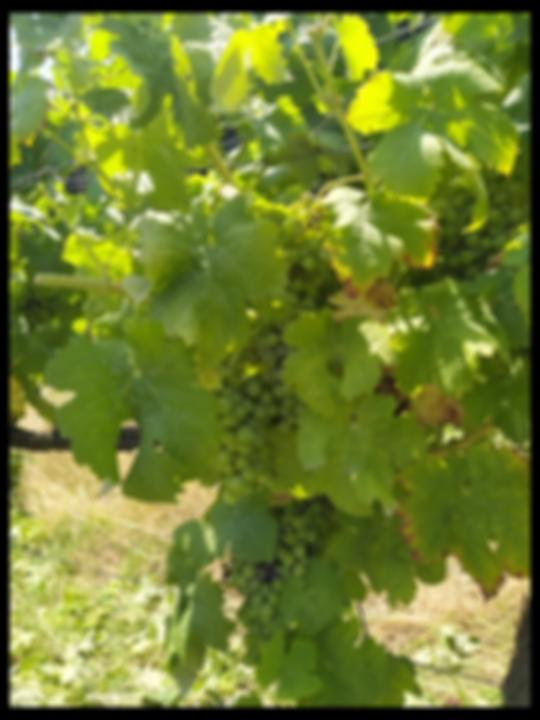grape: (223, 492, 335, 670), (246, 191, 342, 368), (427, 153, 529, 293), (208, 358, 281, 507)
